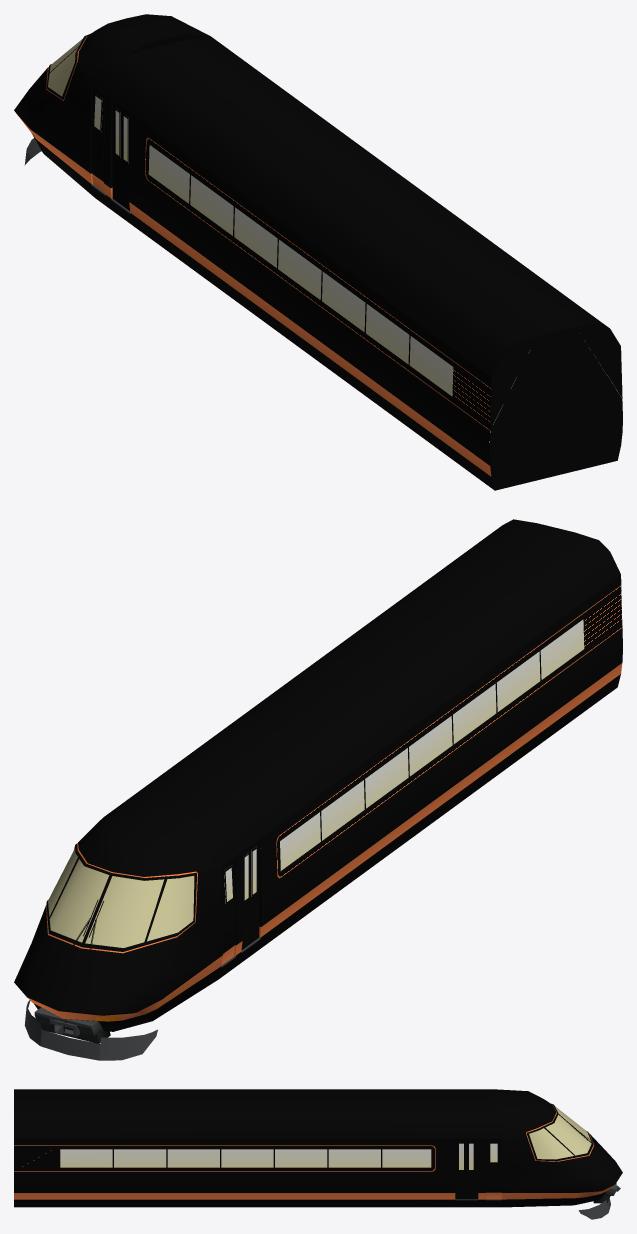
File: ULR_3.glb
3 views of the same model, one above another, from view 1: azimuth 30°, elevation 25°; view 2: azimuth 150°, elevation 25°; view 3: azimuth 270°, elevation 25° (orthographic). The views are drawn at different scales.
Visible parts, largest first — view 1: obj2; view 2: obj2; view 3: obj2.
Boxes of the visible parts, x1=… form: obj2: x1=14, y1=14, x2=622, y2=490; obj2: x1=14, y1=519, x2=622, y2=1060; obj2: x1=14, y1=1089, x2=622, y2=1219.
Bounding box in the file's own units: 6.49 × 8.24 × 42.
Materials: 11 (10 with a texture image).
